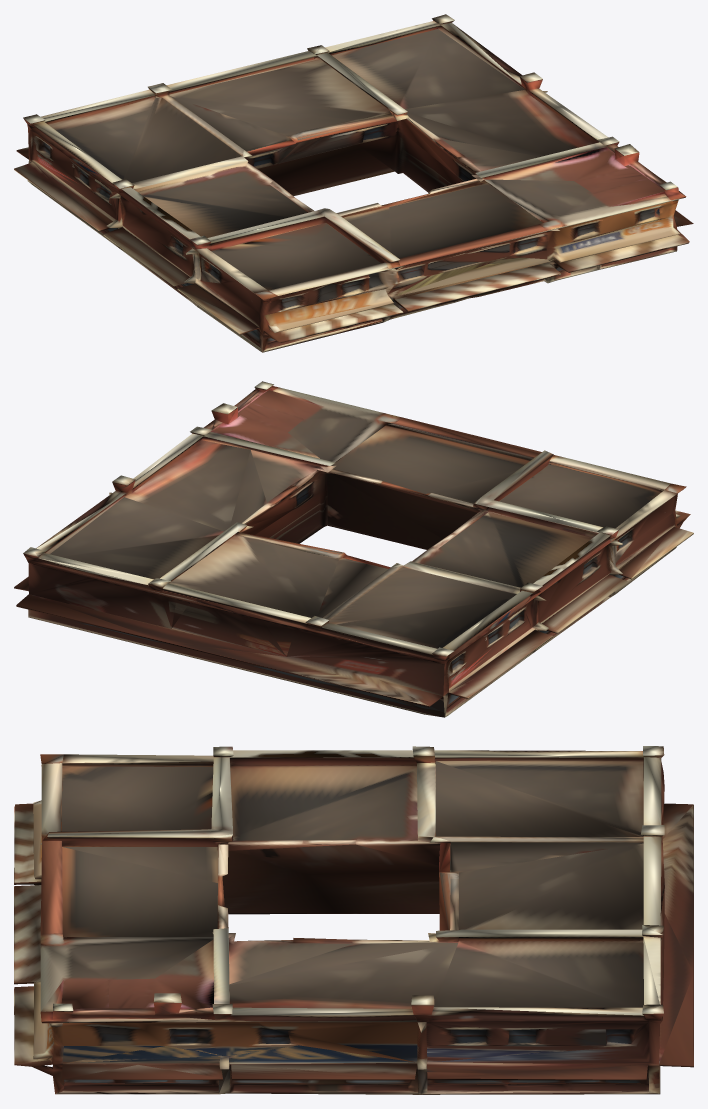
Rendered from BD_LaBrea.fbx.
The picture shows the model from 3 angles, top to bottom: view 1: azimuth 30°, elevation 25°; view 2: azimuth 150°, elevation 25°; view 3: azimuth 270°, elevation 25°; orthographic projection. The views are drawn at different scales.
Visible parts, largest first — view 1: model; view 2: model; view 3: model.
Part boxes in pixels (x1=…): model: x1=14, y1=14, x2=693, y2=352; model: x1=14, y1=381, x2=693, y2=717; model: x1=14, y1=746, x2=693, y2=1094.
Size of the model in its own units: 60 by 60 by 9.
Materials: 1 (1 with a texture image).
